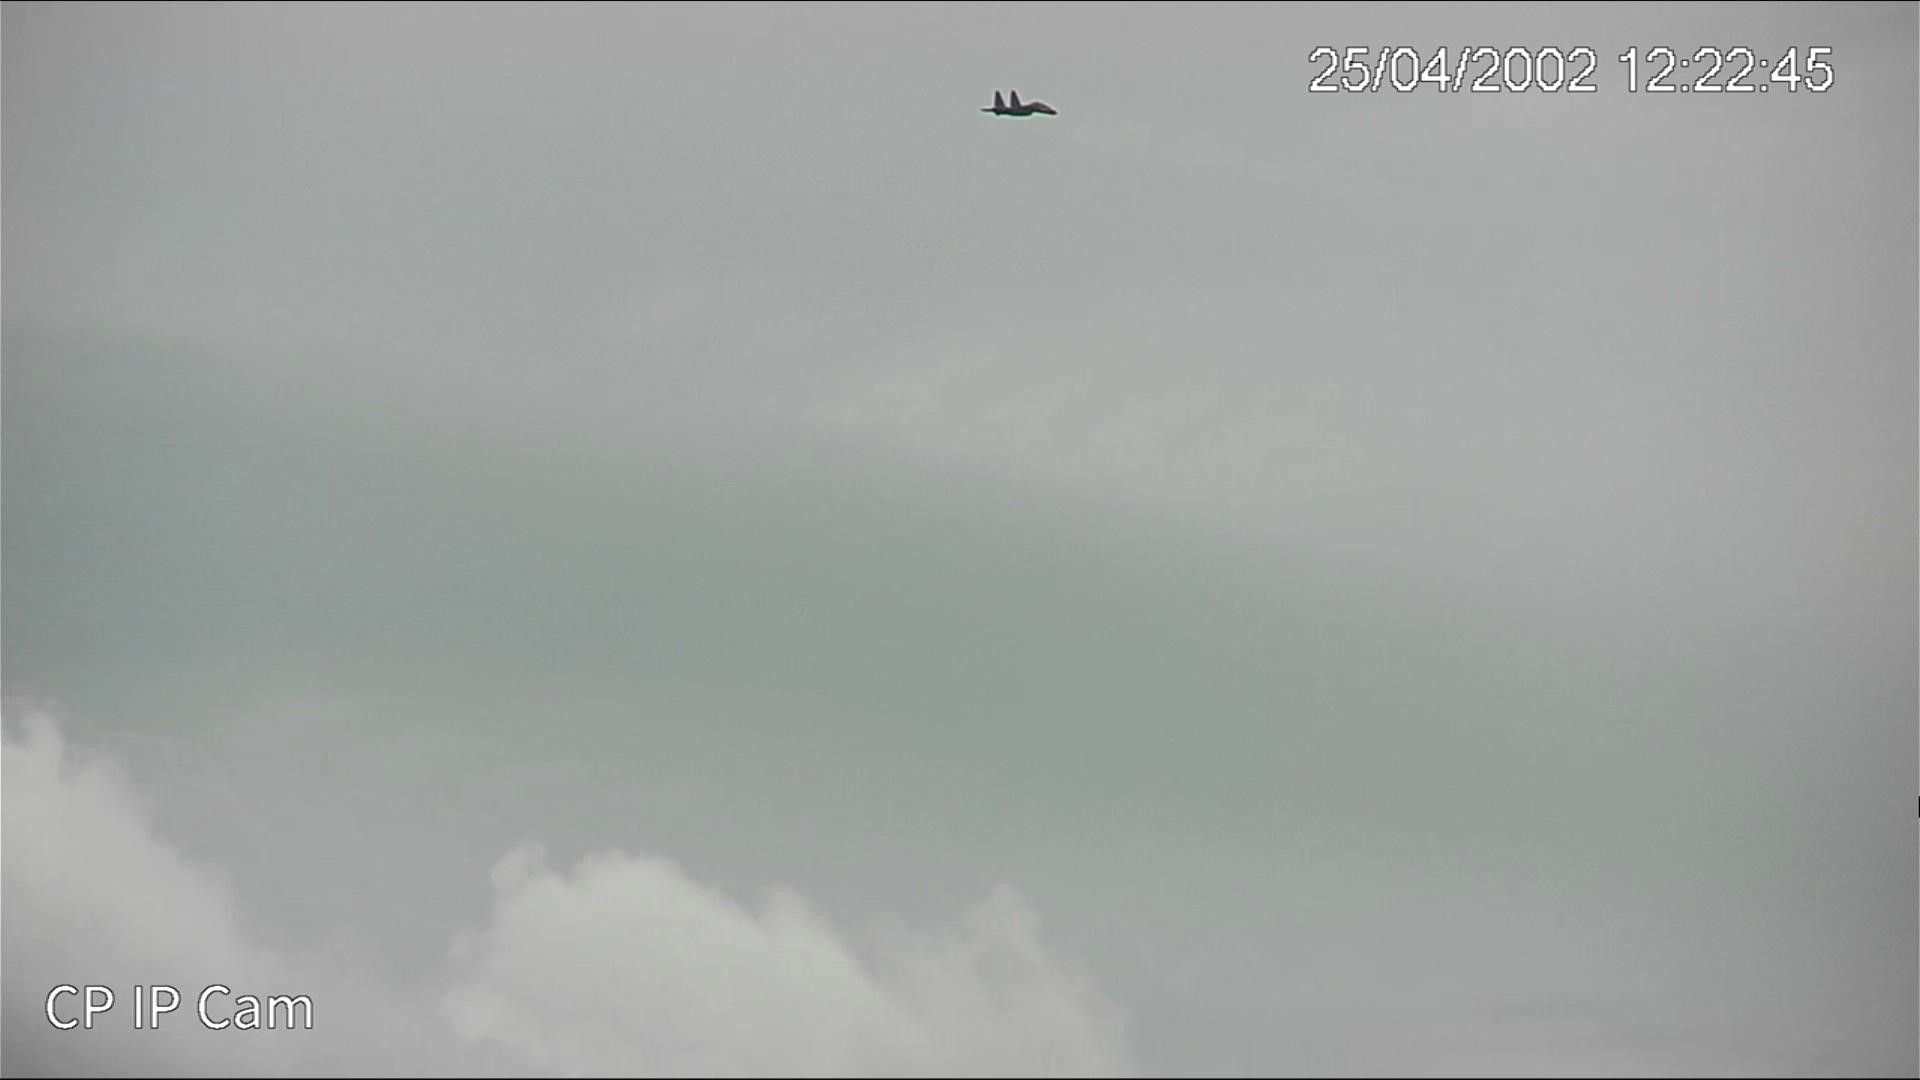SU_30: (982, 88, 1050, 120)
